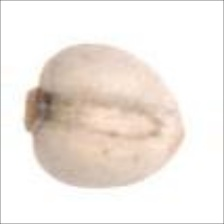L5: (49, 96, 164, 145), (23, 85, 61, 137), (163, 93, 187, 164)
L6: (23, 41, 189, 191)
